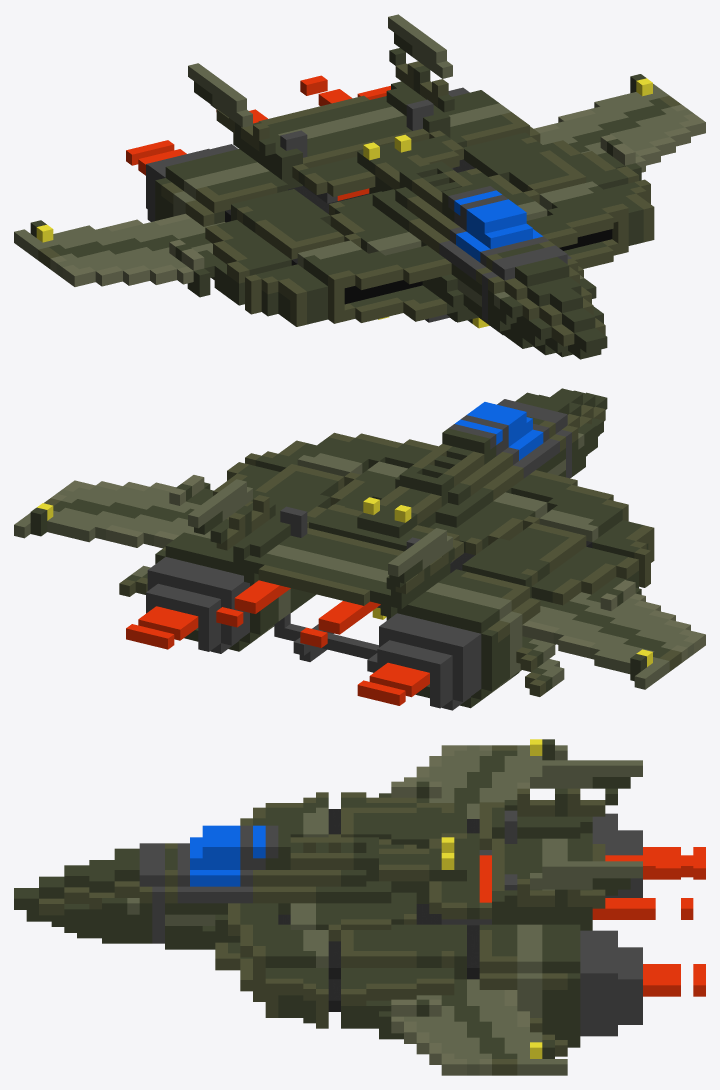
Rendered from Spaceship02.gltf.
3 renders of one model, top to bottom at view 1: azimuth 30°, elevation 25°; view 2: azimuth 150°, elevation 25°; view 3: azimuth 270°, elevation 25°, orthographic. The views are drawn at different scales.
Parts seen in each view (by area): view 1: Spaceship02; view 2: Spaceship02; view 3: Spaceship02.
Part boxes in pixels (x1,y1,x2,y2): Spaceship02: [14, 14, 705, 359]; Spaceship02: [14, 388, 705, 710]; Spaceship02: [14, 739, 705, 1075].
Bounding box in the file's own units: 6 × 1.6 × 5.5.
1 material, 1 textured.
